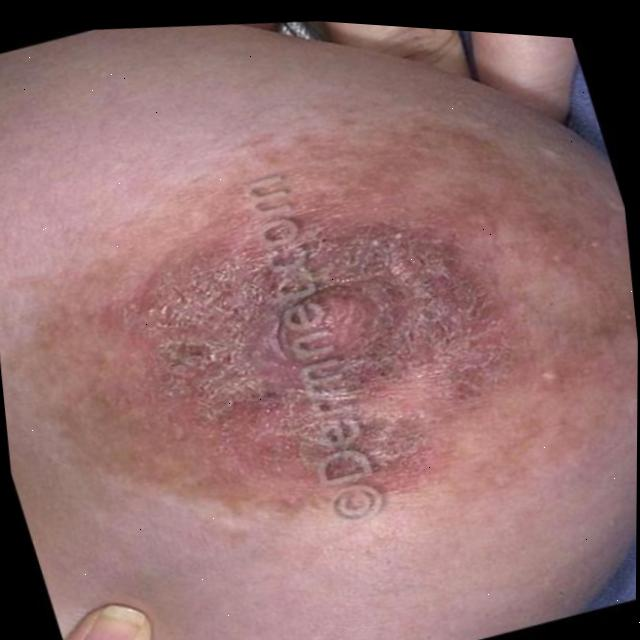Eczema: (69, 125, 583, 544)
